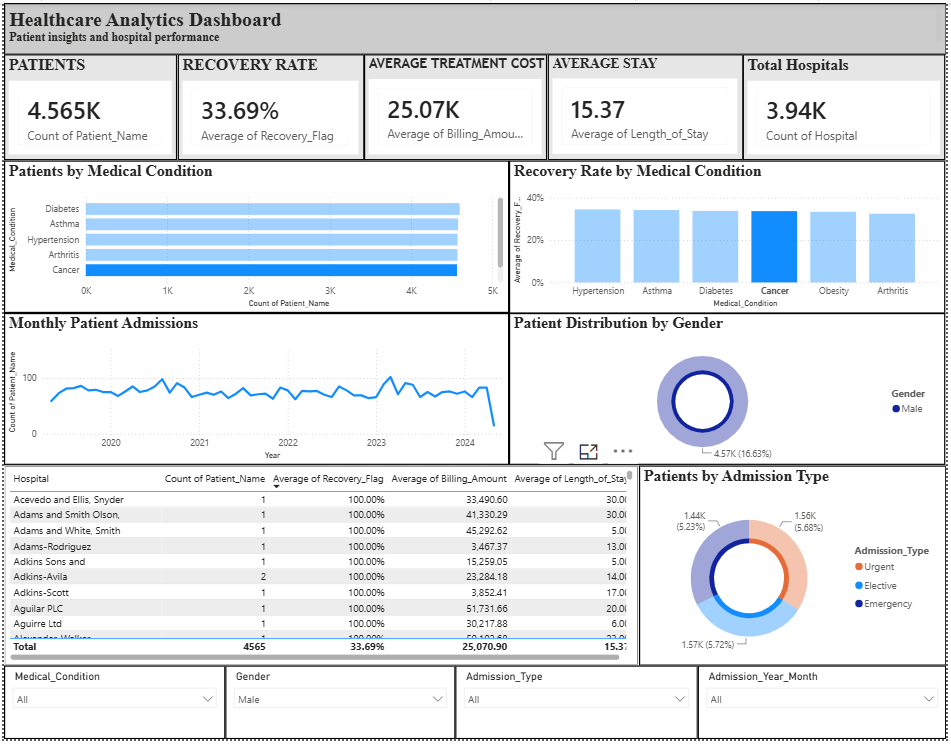

What the dashboard file says about the page in this screenshot:
{"tool":"powerbi","page":{"name":"Healthcare Dashboard","canvas":[1280,1000],"ordinal":0},"visuals":[{"type":"textbox","box":[0,0,1280.9,70.3],"z":0},{"type":"cardVisual","title":"PATIENTS","fields":{"Data":["CountNonNull(healthcare_cleaned.Patient_Name)"]},"box":[0,70.3,235.4,143.7],"z":1000},{"type":"cardVisual","title":"RECOVERY RATE","fields":{"Data":["Avg(healthcare_cleaned.Recovery_Flag)"]},"box":[235.4,70.3,253.7,143.7],"z":2000},{"type":"cardVisual","title":"AVERAGE TREATMENT COST","fields":{"Data":["Avg(healthcare_cleaned.Billing_Amount)"]},"box":[489.1,70.3,249.2,143.7],"z":3000},{"type":"cardVisual","title":"AVERAGE STAY","fields":{"Data":["Avg(healthcare_cleaned.Length_of_Stay)"]},"box":[738.3,70.3,266,143.7],"z":4000},{"type":"cardVisual","title":"Total Hospitals","fields":{"Data":["Count(healthcare_cleaned.Hospital)"]},"box":[1004.3,70.3,275.1,143.7],"z":5000},{"type":"clusteredBarChart","title":"Patients by Medical Condition","fields":{"Category":["healthcare_cleaned.Medical_Condition"],"Y":["CountNonNull(healthcare_cleaned.Patient_Name)"]},"box":[0,214,686.1,207.2],"z":6000},{"type":"clusteredColumnChart","title":"Recovery Rate by Medical Condition","fields":{"Category":["healthcare_cleaned.Medical_Condition"],"Y":["Avg(healthcare_cleaned.Recovery_Flag)"]},"box":[686.3,214,593.1,207.9],"z":7000},{"type":"lineChart","title":"Monthly Patient Admissions","fields":{"Category":["healthcare_cleaned.Admission_Year_Month.Variation.Date Hierarchy.Year","healthcare_cleaned.Admission_Year_Month.Variation.Date Hierarchy.Quarter","healthcare_cleaned.Admission_Year_Month.Variation.Date Hierarchy.Month","healthcare_cleaned.Admission_Year_Month.Variation.Date Hierarchy.Day"],"Y":["CountNonNull(healthcare_cleaned.Patient_Name)"]},"box":[0,421.9,686.3,206.4],"z":8000},{"type":"donutChart","title":"Patient Distribution by Gender","fields":{"Category":["healthcare_cleaned.Gender"],"Y":["CountNonNull(healthcare_cleaned.Patient_Name)"]},"box":[686.3,421.9,593.1,206.4],"z":9000},{"type":"donutChart","title":"Patients by Admission Type","fields":{"Category":["healthcare_cleaned.Admission_Type"],"Y":["CountNonNull(healthcare_cleaned.Patient_Name)"]},"box":[862.1,628.2,417.3,272.1],"z":10000},{"type":"tableEx","fields":{"Values":["healthcare_cleaned.Hospital","healthcare_cleaned.Patient_Name","Avg(healthcare_cleaned.Recovery_Flag)","Avg(healthcare_cleaned.Billing_Amount)","Avg(healthcare_cleaned.Length_of_Stay)"]},"box":[0,628.2,862.1,272.1],"z":11000},{"type":"slicer","fields":{"Values":["healthcare_cleaned.Medical_Condition"]},"box":[0,900.1,300.6,100.2],"z":11001},{"type":"slicer","fields":{"Values":["healthcare_cleaned.Gender"]},"box":[300.6,900.1,312.5,100.2],"z":11002},{"type":"slicer","fields":{"Values":["healthcare_cleaned.Admission_Type"]},"box":[613.1,900.1,329.5,100.2],"z":11003},{"type":"slicer","fields":{"Values":["healthcare_cleaned.Admission_Year_Month"]},"box":[942.6,900.1,338,100.2],"z":11004}]}

Visuals, with their boxes in screenshot pixels (x1, y1, x2, y2), scaled from the page's 1280x1000 canvas onto the 951x744 screenshot:
textbox: 0:0:950:52
"PATIENTS" cardVisual: 0:52:175:159
"RECOVERY RATE" cardVisual: 175:52:363:159
"AVERAGE TREATMENT COST" cardVisual: 363:52:549:159
"AVERAGE STAY" cardVisual: 549:52:746:159
"Total Hospitals" cardVisual: 746:52:950:159
"Patients by Medical Condition" clusteredBarChart: 0:159:510:313
"Recovery Rate by Medical Condition" clusteredColumnChart: 510:159:950:314
"Monthly Patient Admissions" lineChart: 0:314:510:467
"Patient Distribution by Gender" donutChart: 510:314:950:467
"Patients by Admission Type" donutChart: 641:467:950:670
tableEx - healthcare_cleaned.Hospital x healthcare_cleaned.Patient_Name: 0:467:641:670
slicer - healthcare_cleaned.Medical_Condition: 0:670:223:743
slicer - healthcare_cleaned.Gender: 223:670:456:743
slicer - healthcare_cleaned.Admission_Type: 456:670:700:743
slicer - healthcare_cleaned.Admission_Year_Month: 700:670:950:743
